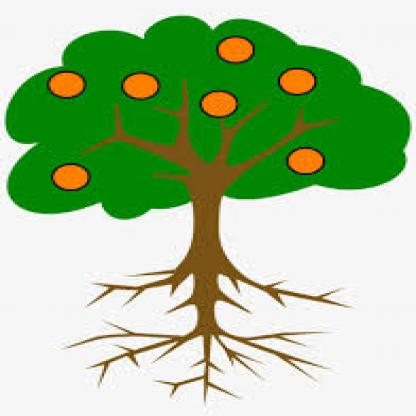apple: (119, 69, 165, 101), (276, 66, 320, 97), (216, 33, 258, 65), (46, 69, 89, 100), (288, 146, 326, 178), (48, 162, 90, 190), (197, 89, 239, 116)
branch_sharp: (92, 80, 336, 178)
crown_cloud: (1, 17, 414, 221)
root_only: (77, 254, 349, 406)
trunk_straight: (187, 210, 231, 246)
